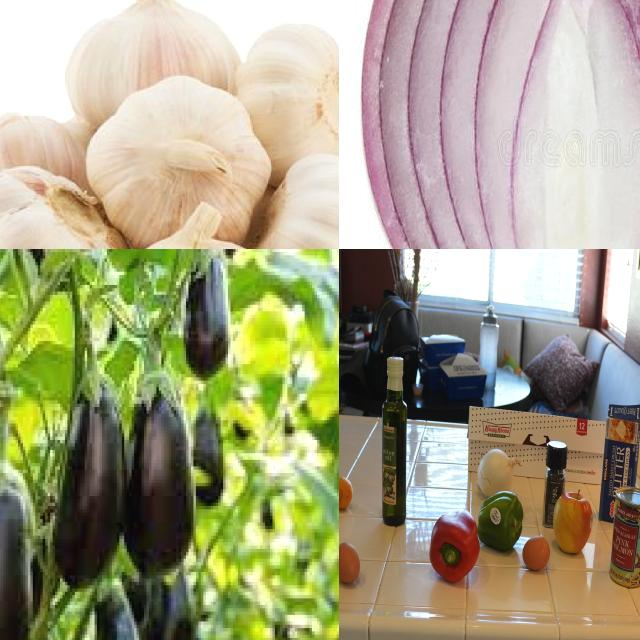bell_pepper: (427, 513, 483, 587), (482, 491, 521, 553), (539, 439, 567, 525)
egg: (523, 535, 551, 575), (340, 543, 365, 587)
eggplant: (51, 365, 120, 586), (123, 365, 195, 573), (177, 250, 231, 378), (1, 467, 31, 640), (135, 546, 189, 640), (80, 579, 140, 640)
garlic: (89, 79, 274, 250), (64, 1, 238, 128), (245, 30, 340, 171), (1, 172, 122, 250), (106, 208, 292, 250), (262, 154, 340, 250)
onion: (363, 1, 640, 250), (476, 449, 524, 499)
